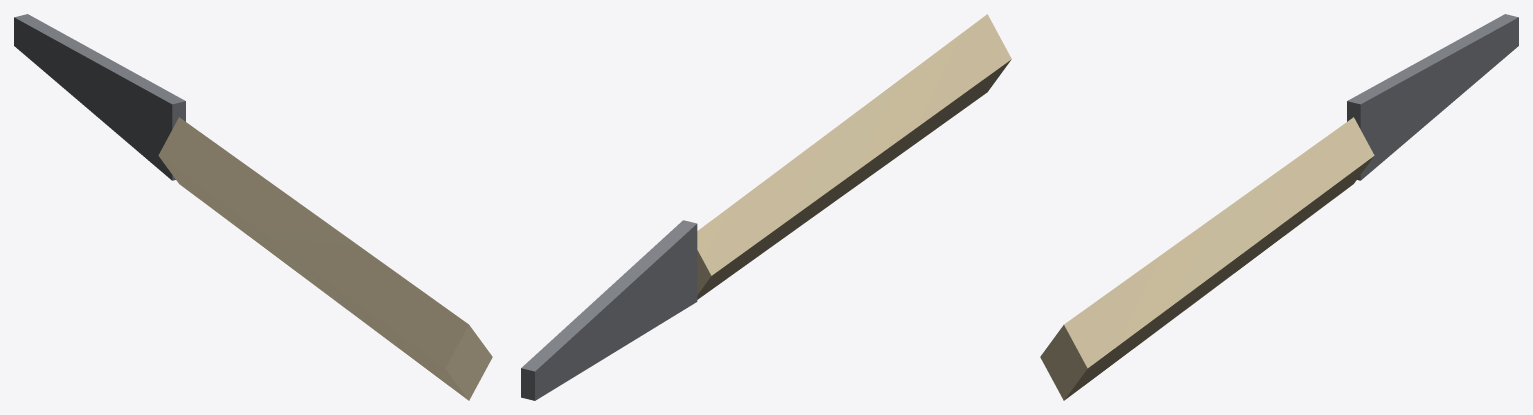
File: ph_tool_scalpel.glb
The picture shows the model from 3 angles, left to right: view 1: azimuth 30°, elevation 25°; view 2: azimuth 150°, elevation 25°; view 3: azimuth 330°, elevation 25°; orthographic projection. The views are drawn at different scales.
Visible parts, largest first — view 1: ph_tool_scalpel; view 2: ph_tool_scalpel; view 3: ph_tool_scalpel.
Part boxes in pixels (x1,y1,x2,y2): ph_tool_scalpel: (14,14,492,400); ph_tool_scalpel: (521,14,1011,400); ph_tool_scalpel: (1040,14,1518,400).
Bounding box in the file's own units: 0.0104 × 0.018 × 0.17.
